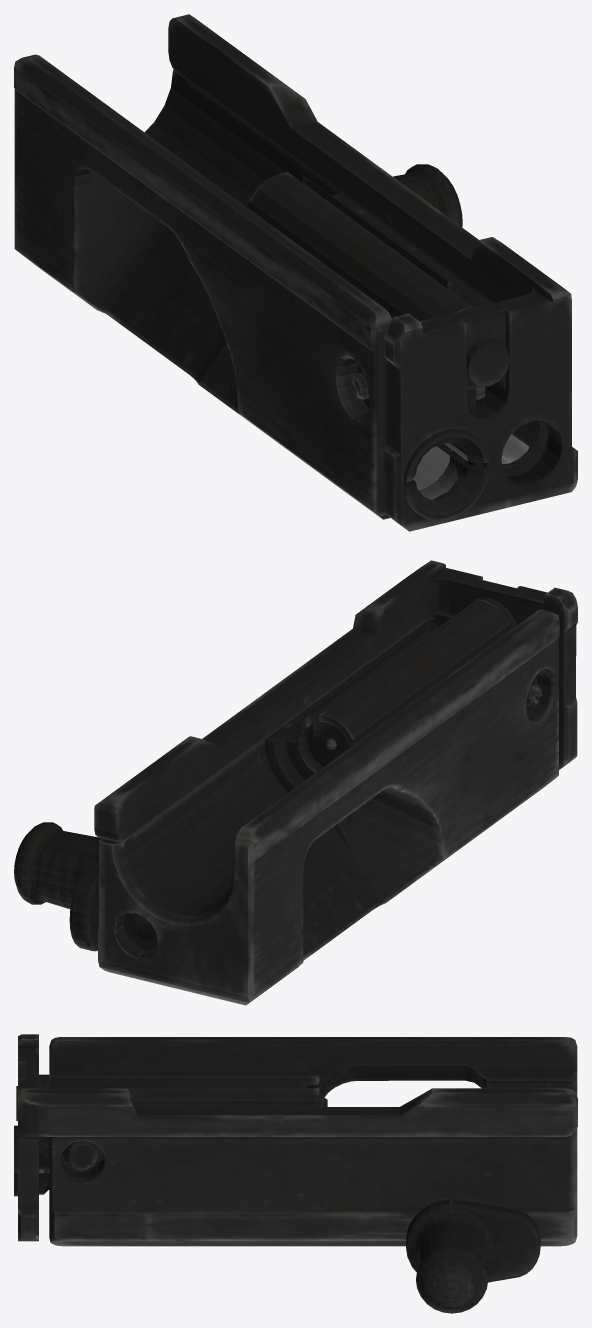
3 renders of one model, top to bottom at view 1: azimuth 30°, elevation 25°; view 2: azimuth 150°, elevation 25°; view 3: azimuth 270°, elevation 25°, orthographic. The views are drawn at different scales.
Parts seen in each view (by area): view 1: TW_668e71a8dadf42204c032ce1_PZ_Import; view 2: TW_668e71a8dadf42204c032ce1_PZ_Import; view 3: TW_668e71a8dadf42204c032ce1_PZ_Import.
Boxes of the visible parts, x1,y1,x2,y2 form: TW_668e71a8dadf42204c032ce1_PZ_Import: (14,14,577,531); TW_668e71a8dadf42204c032ce1_PZ_Import: (14,560,577,1005); TW_668e71a8dadf42204c032ce1_PZ_Import: (14,1034,577,1313).
Bounding box in the file's own units: 0.0344 × 0.0649 × 0.0221.
Materials: 1 (1 with a texture image).
